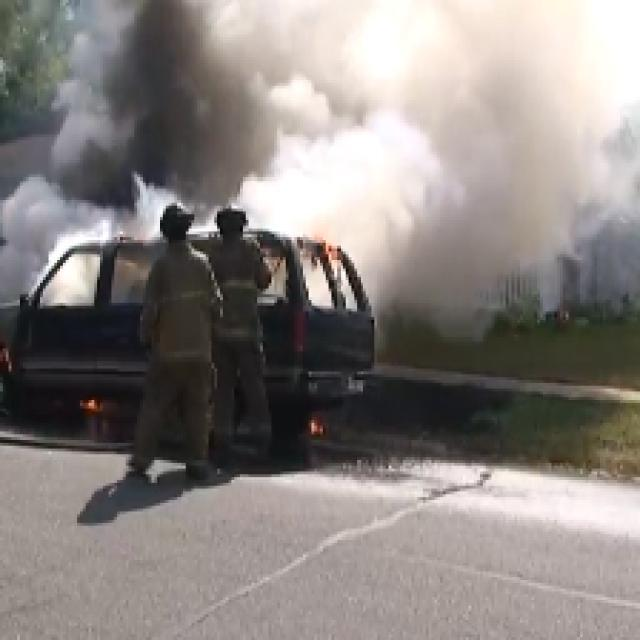Smoke: (179, 52, 617, 278)
